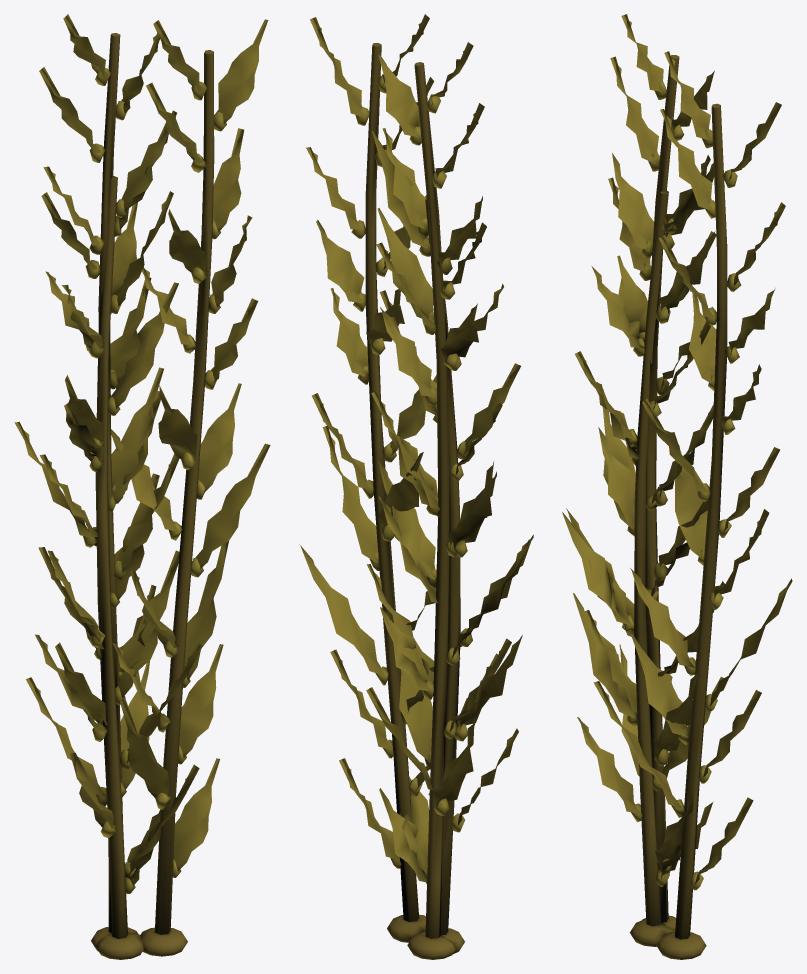
File: kelp_tall.glb
3 views of the same model, side by side, from view 1: azimuth 30°, elevation 25°; view 2: azimuth 150°, elevation 25°; view 3: azimuth 330°, elevation 25° (orthographic). The views are drawn at different scales.
Visible parts, largest first — view 1: kelp_tall_mesh; view 2: kelp_tall_mesh; view 3: kelp_tall_mesh.
Part boxes in pixels (left/top/right/bottom): kelp_tall_mesh: left=14, top=14, right=270, bottom=959; kelp_tall_mesh: left=299, top=14, right=533, bottom=959; kelp_tall_mesh: left=562, top=14, right=792, bottom=959.
Bounding box in the file's own units: 2.22 × 8.8 × 1.02.
